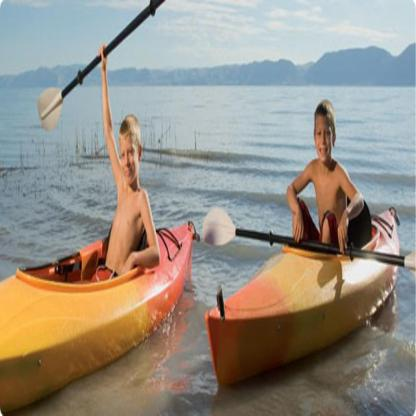face: (121, 138, 140, 185), (317, 117, 333, 163)
